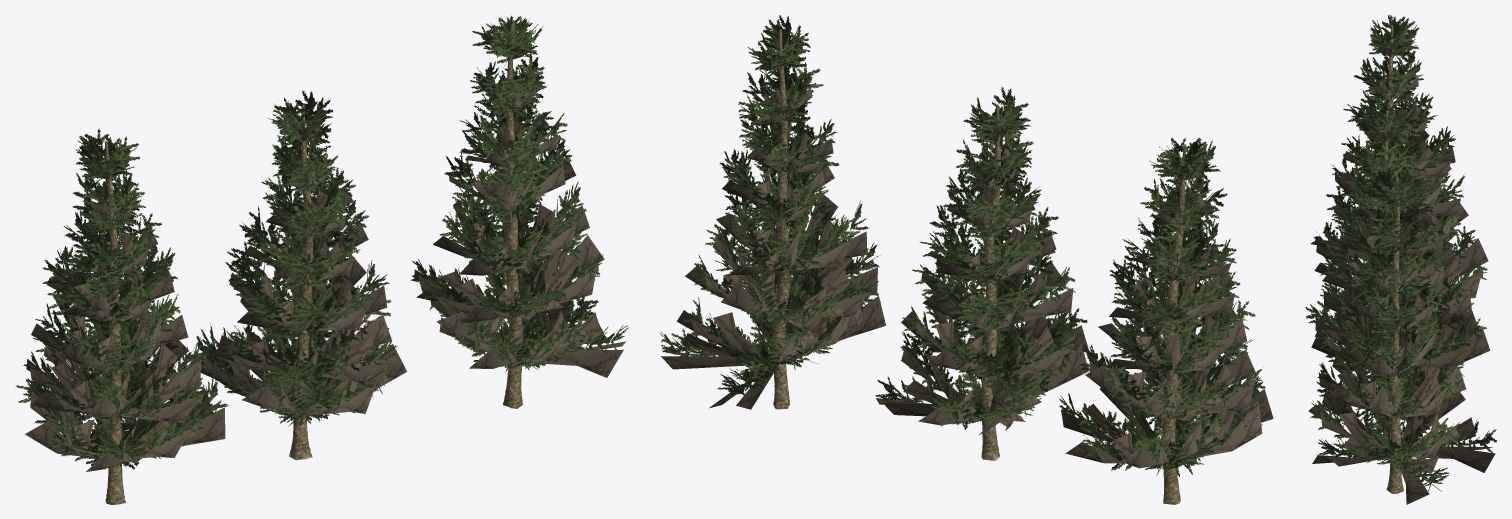
File: Fraser Fir_Low.obj
The picture shows the model from 3 angles, left to right: view 1: azimuth 30°, elevation 25°; view 2: azimuth 150°, elevation 25°; view 3: azimuth 270°, elevation 25°; orthographic projection. The views are drawn at different scales.
Parts seen in each view (by area): view 1: FraserFir_Low02, FraserFir_Low03, FraserFir_Low01; view 2: FraserFir_Low03, FraserFir_Low02, FraserFir_Low01; view 3: FraserFir_Low03, FraserFir_Low01, FraserFir_Low02.
Part boxes in pixels (left/top/right/bottom): FraserFir_Low02: left=15, top=128, right=228, bottom=504; FraserFir_Low03: left=411, top=15, right=628, bottom=408; FraserFir_Low01: left=190, top=90, right=406, bottom=460; FraserFir_Low03: left=659, top=15, right=885, bottom=409; FraserFir_Low02: left=1058, top=138, right=1273, bottom=504; FraserFir_Low01: left=875, top=87, right=1088, bottom=460; FraserFir_Low03: left=1308, top=167, right=1496, bottom=504; FraserFir_Low01: left=1305, top=101, right=1490, bottom=381; FraserFir_Low02: left=1310, top=15, right=1488, bottom=303.
Bounding box in the file's own units: 483 × 303 × 167.
5 materials, 5 textured.
